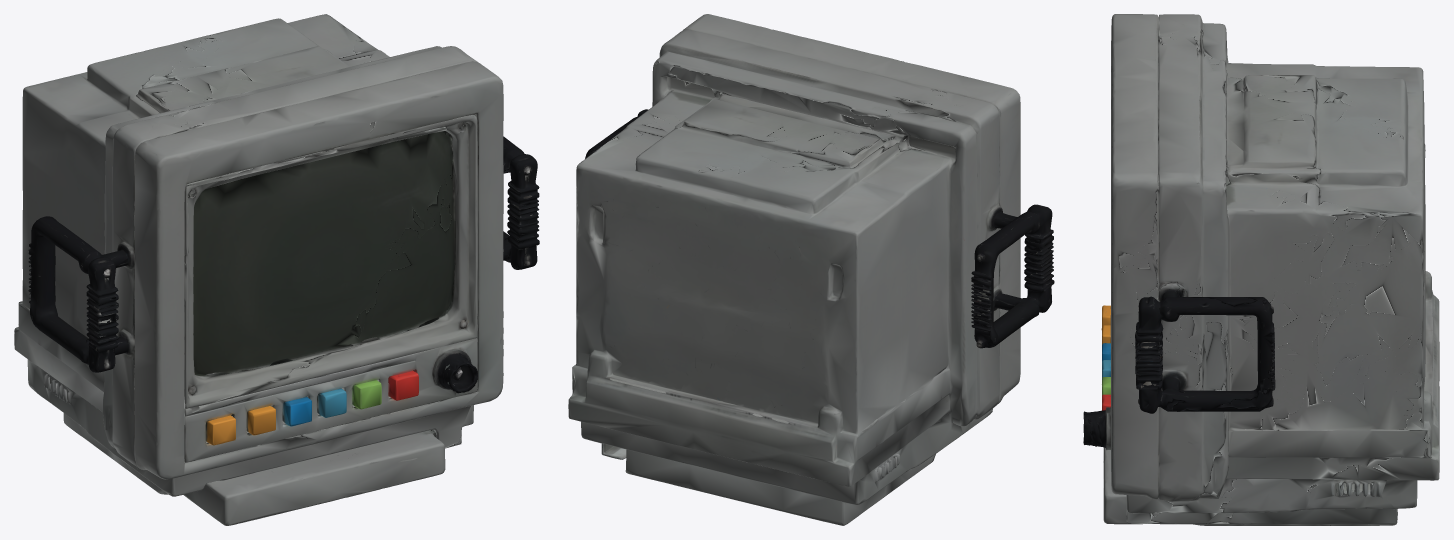
Rendered from bedside-monitor-generated.glb.
3 views of the same model, side by side, from view 1: azimuth 30°, elevation 25°; view 2: azimuth 150°, elevation 25°; view 3: azimuth 270°, elevation 25° (orthographic). The views are drawn at different scales.
Visible parts, largest first — view 1: geometry_0; view 2: geometry_0; view 3: geometry_0.
Boxes of the visible parts, x1=… form: geometry_0: x1=14, y1=14, x2=539, y2=525; geometry_0: x1=568, y1=14, x2=1054, y2=525; geometry_0: x1=1083, y1=14, x2=1439, y2=525.
Bounding box in the file's own units: 0.9994 × 0.8211 × 0.6999.
1 material, 1 textured.
